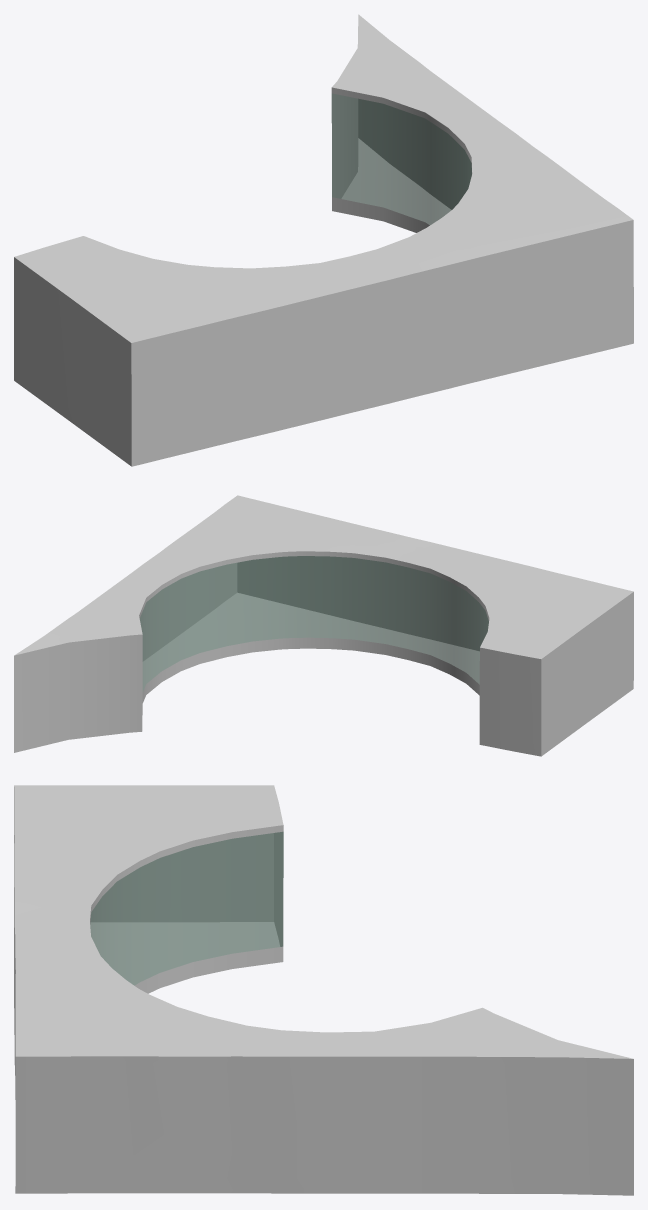
The model's file is aquarium_final.fbx.
3 views of the same model, one above another, from view 1: azimuth 30°, elevation 25°; view 2: azimuth 150°, elevation 25°; view 3: azimuth 270°, elevation 25° (orthographic). The views are drawn at different scales.
Visible parts, largest first — view 1: aquarium_fin; view 2: aquarium_fin; view 3: aquarium_fin.
Boxes of the visible parts, x1,y1,x2,y2 form: aquarium_fin: (14, 14, 633, 466); aquarium_fin: (14, 495, 633, 756); aquarium_fin: (14, 785, 633, 1195).
Size of the model in its own units: 1242 by 290 by 1189.
